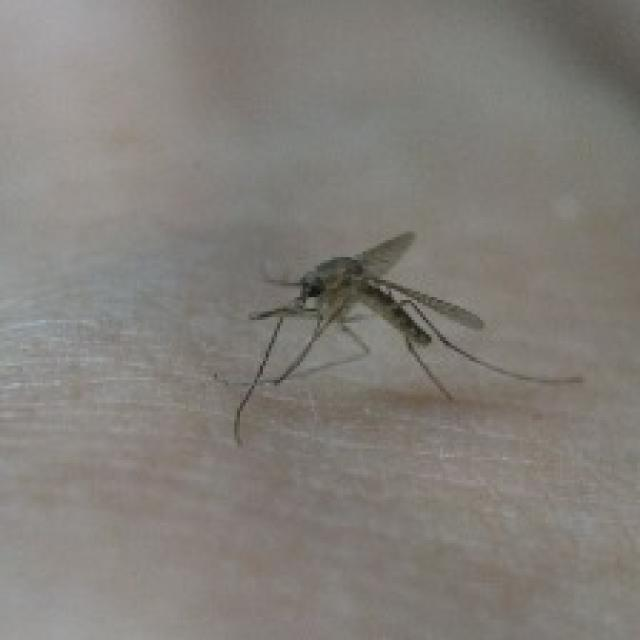culex: (226, 225, 583, 446)
